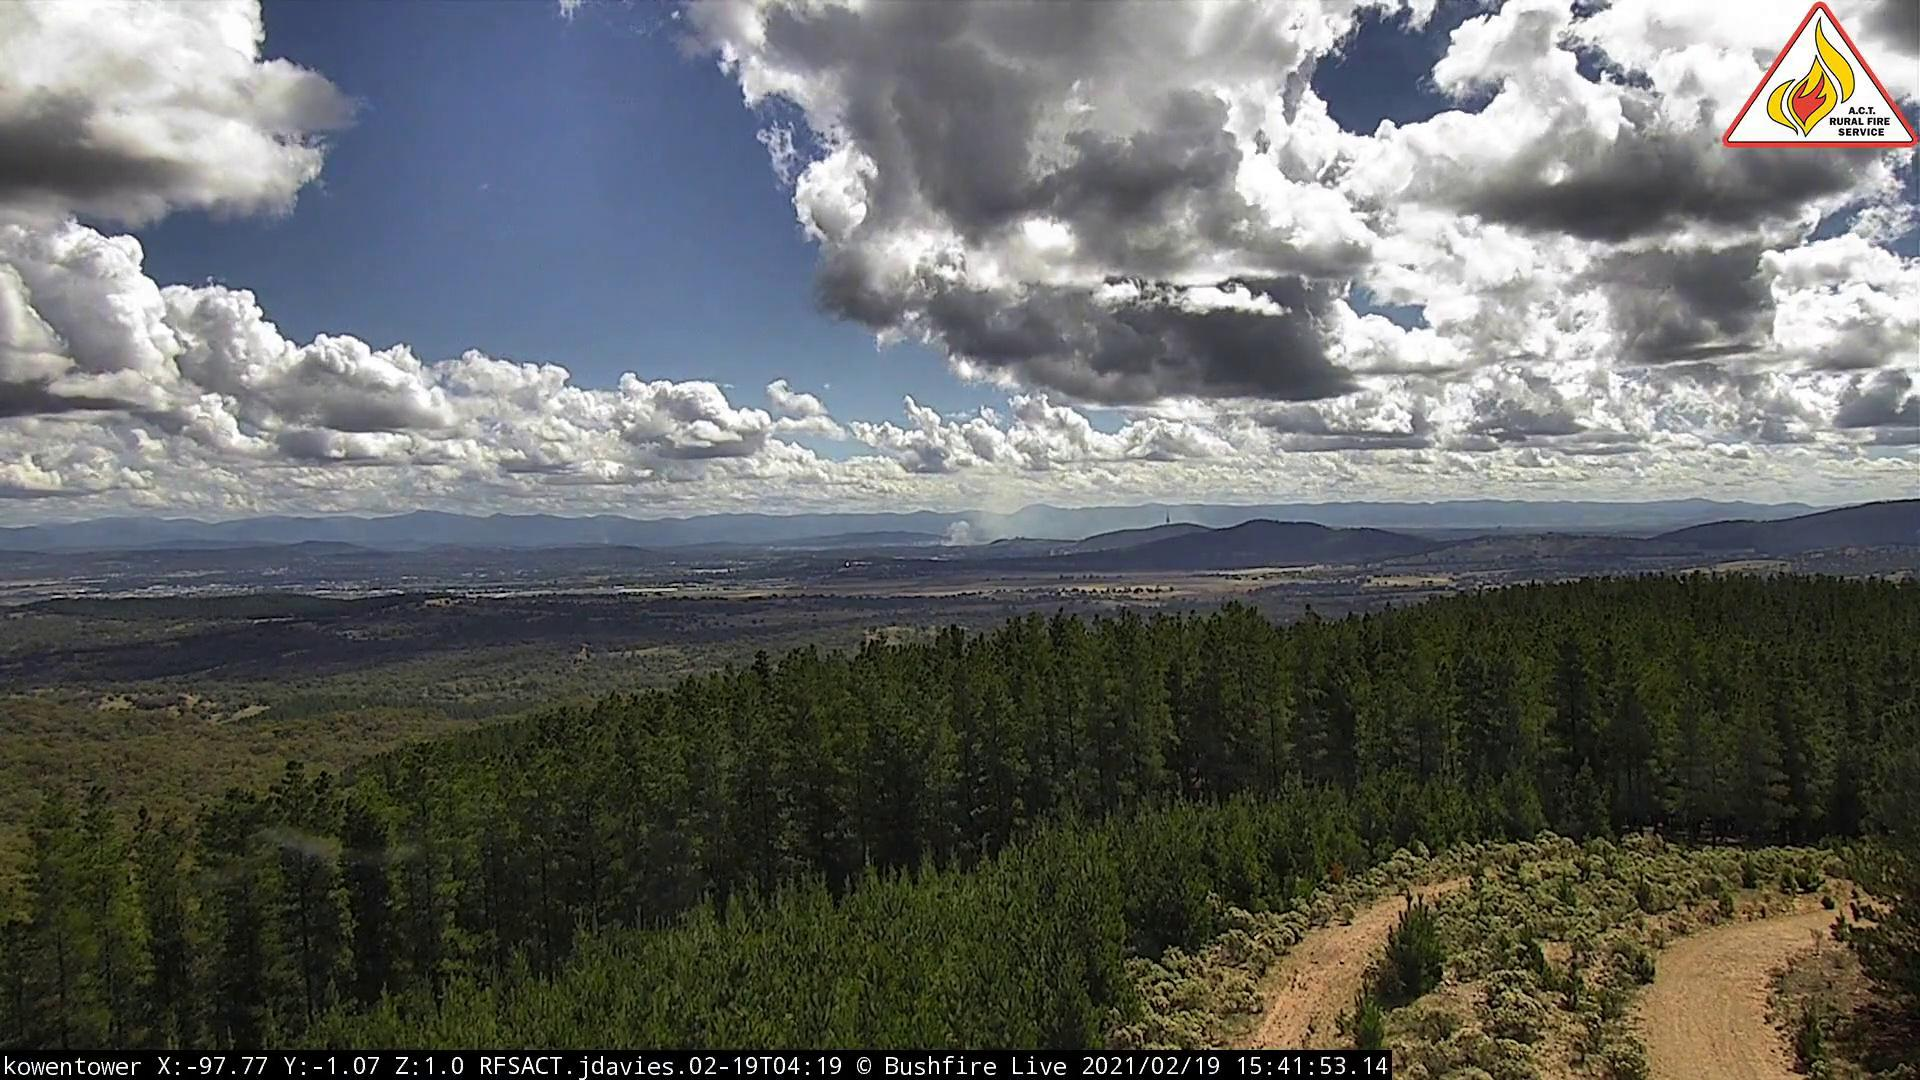Smoke: (945, 520, 980, 551), (605, 535, 625, 553)
